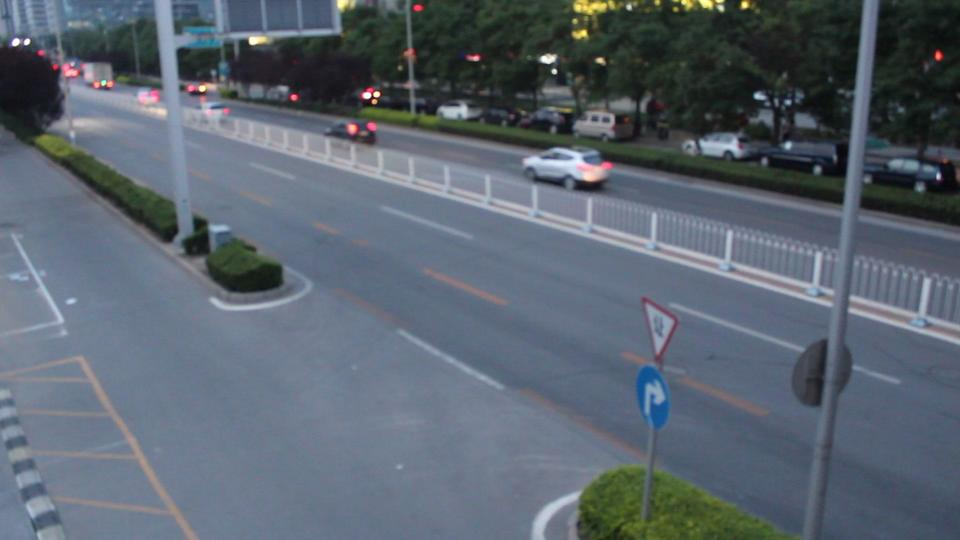Car: (519, 144, 610, 190), (323, 119, 376, 149)
